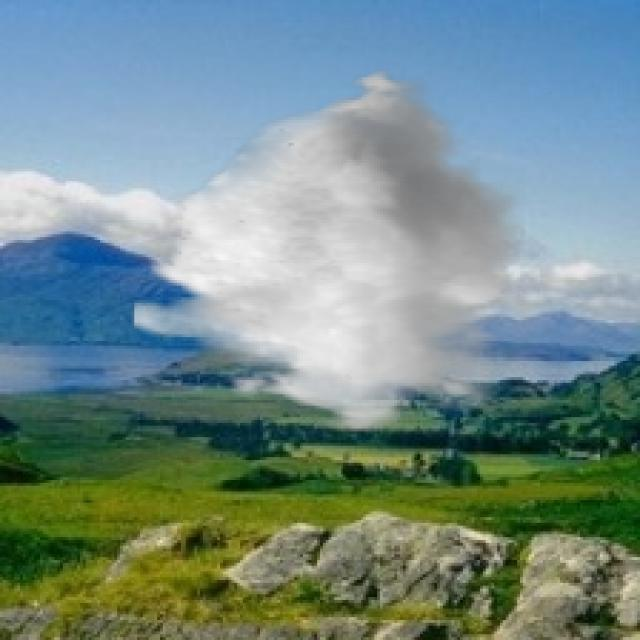smoke: (131, 63, 526, 431)
